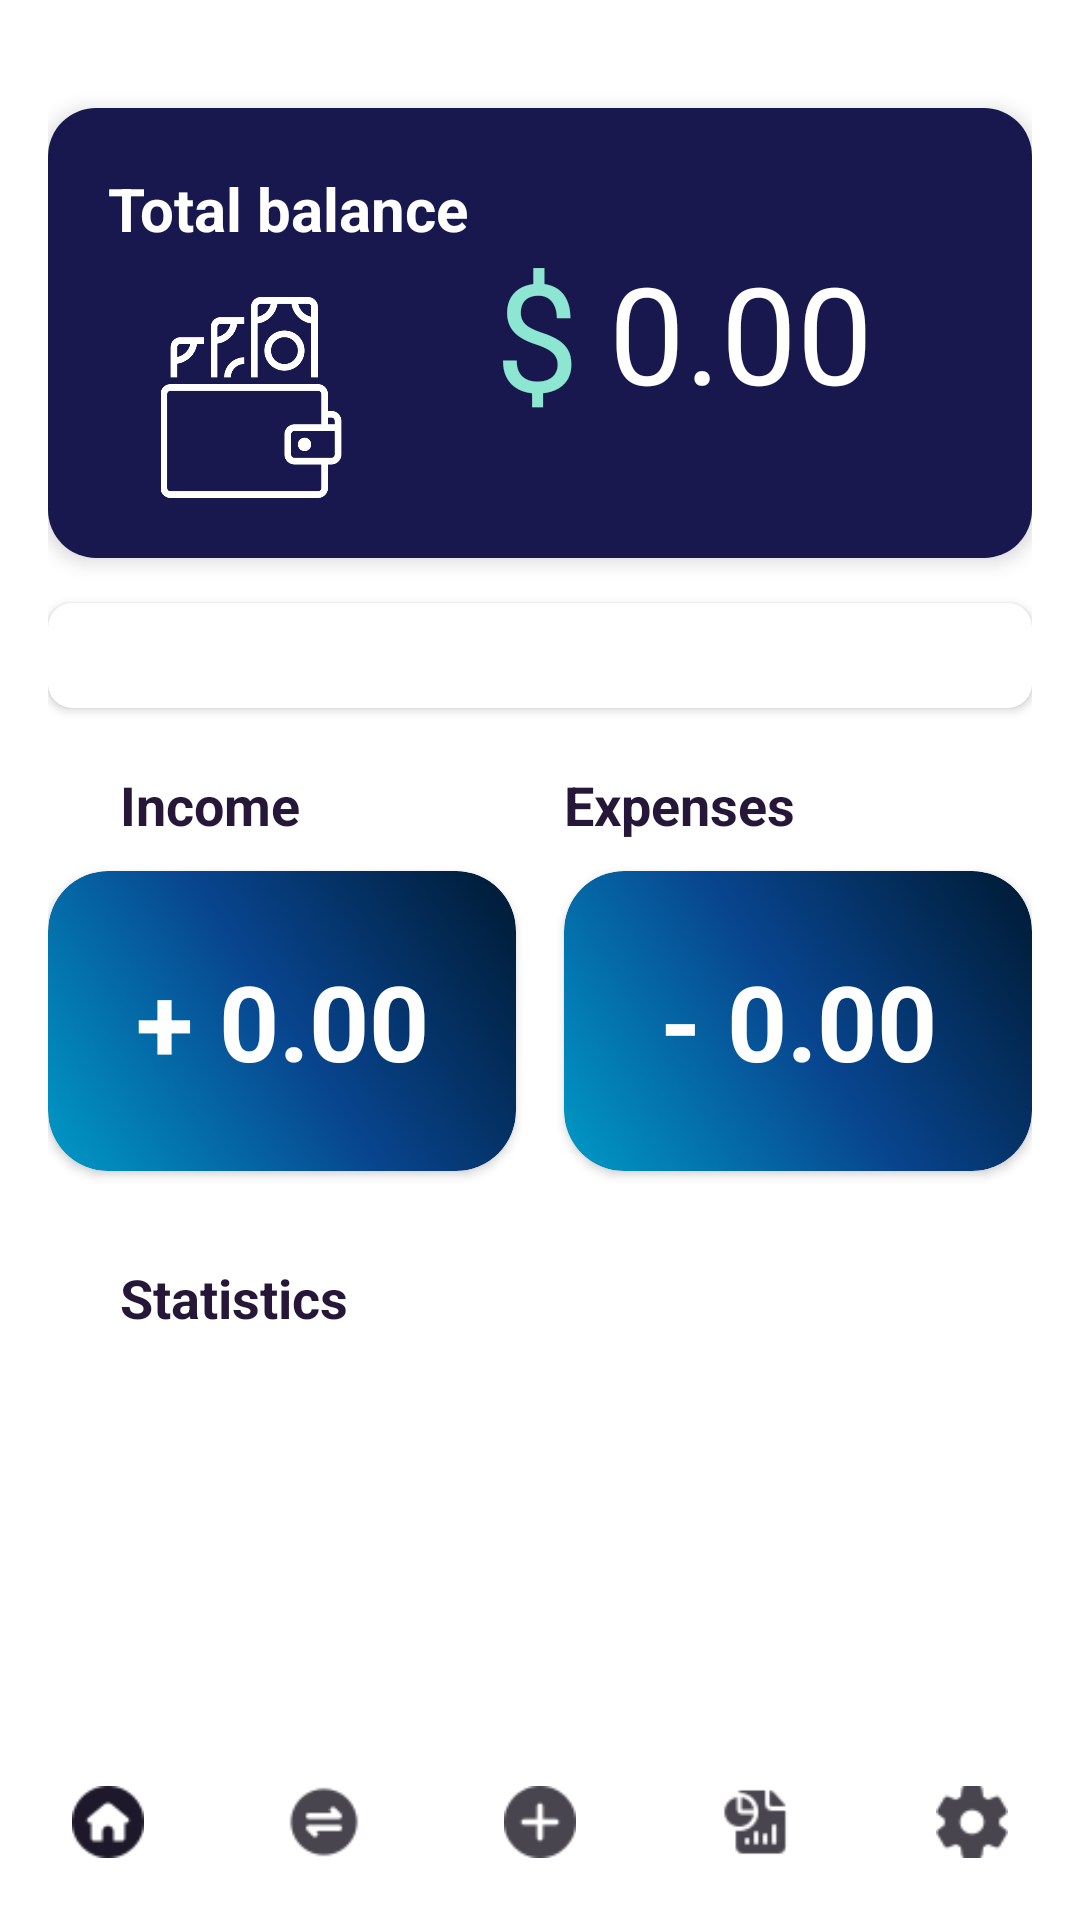

Where icons sit on this 1080 x 1920 app screen, as (x1, y1, x2, y2):
wallet: (161, 297, 342, 498)
